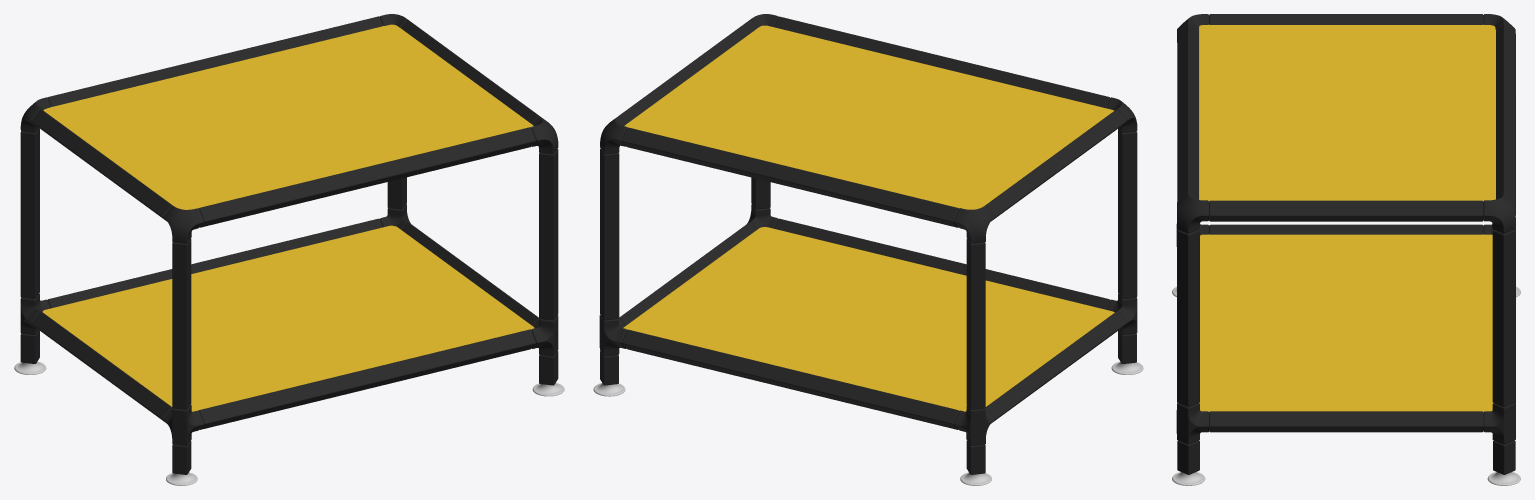
3 renders of one model, left to right at view 1: azimuth 30°, elevation 25°; view 2: azimuth 150°, elevation 25°; view 3: azimuth 270°, elevation 25°, orthographic. The views are drawn at different scales.
Parts seen in each view (by area): view 1: 479x329x229; view 2: 479x329x229; view 3: 479x329x229.
Boxes of the visible parts, x1=… form: 479x329x229: x1=14, y1=14, x2=564, y2=485; 479x329x229: x1=593, y1=14, x2=1143, y2=485; 479x329x229: x1=1172, y1=14, x2=1520, y2=485.
Bounding box in the file's own units: 0.5689 × 0.3683 × 0.4182.
